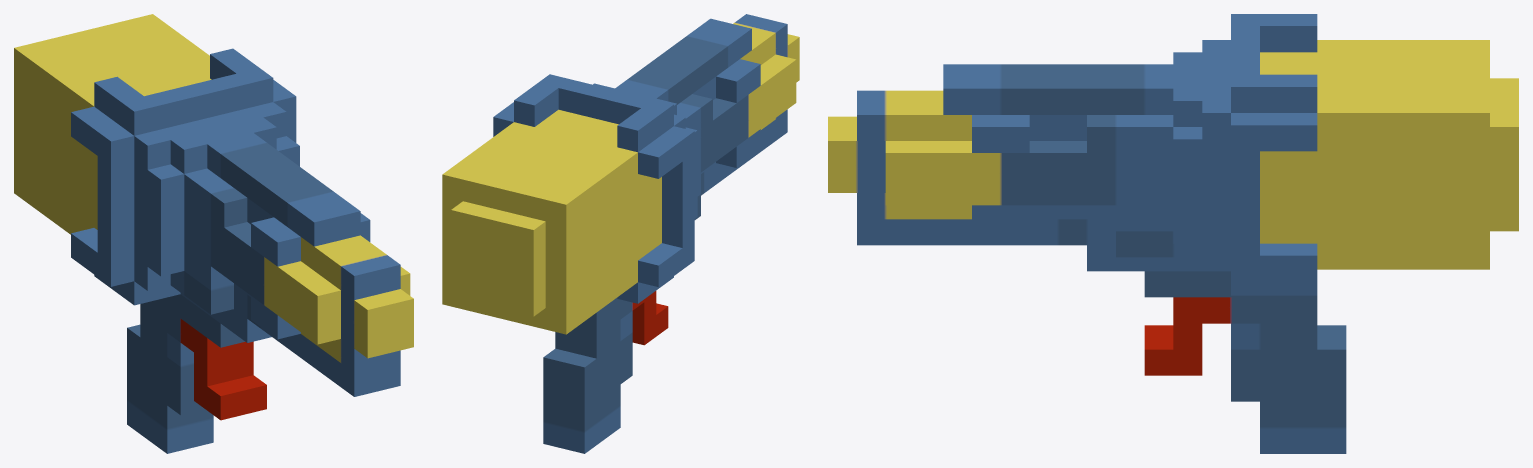
Rendered from pistol.fbx.
The picture shows the model from 3 angles, left to right: view 1: azimuth 30°, elevation 25°; view 2: azimuth 150°, elevation 25°; view 3: azimuth 270°, elevation 25°; orthographic projection. The views are drawn at different scales.
Visible parts, largest first — view 1: pistol; view 2: pistol; view 3: pistol.
Boxes of the visible parts, <box> form: pistol: <box>14,14,413,453</box>; pistol: <box>442,14,799,453</box>; pistol: <box>828,14,1518,453</box>.
Size of the model in its own units: 8 by 15 by 24.
